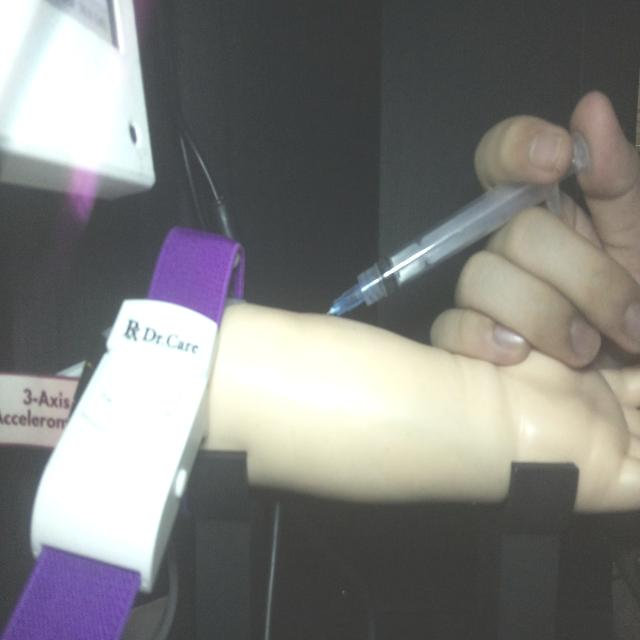26 degrees: (324, 127, 592, 319)
